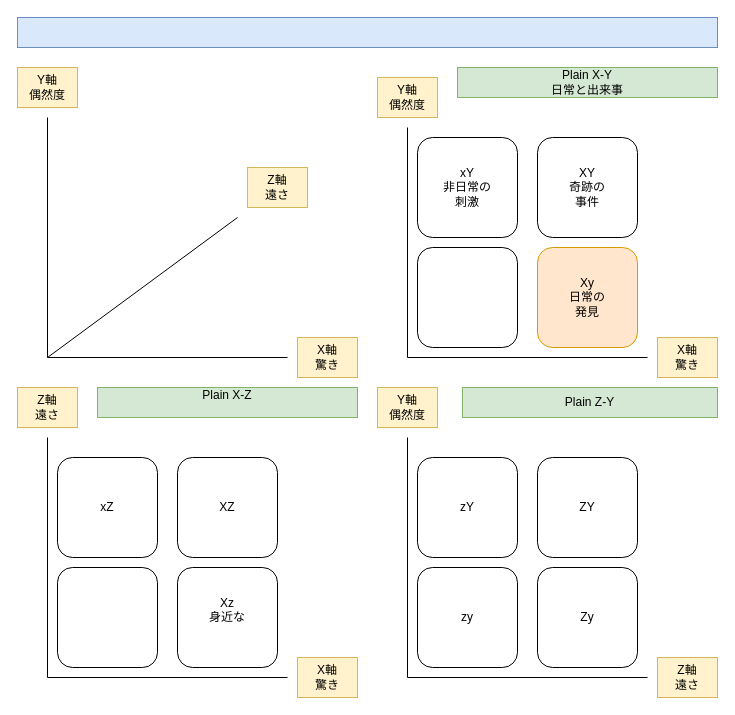
The diagram is 735 pixels wide and 715 high, and some of its shapes have lost their labels. Each missing label, with the centre of its shape:
xy 日常の 出来事: the point at 467,297
xz 身近な 違い: the point at 107,617
コンパス 変化の3軸: the point at 367,32
